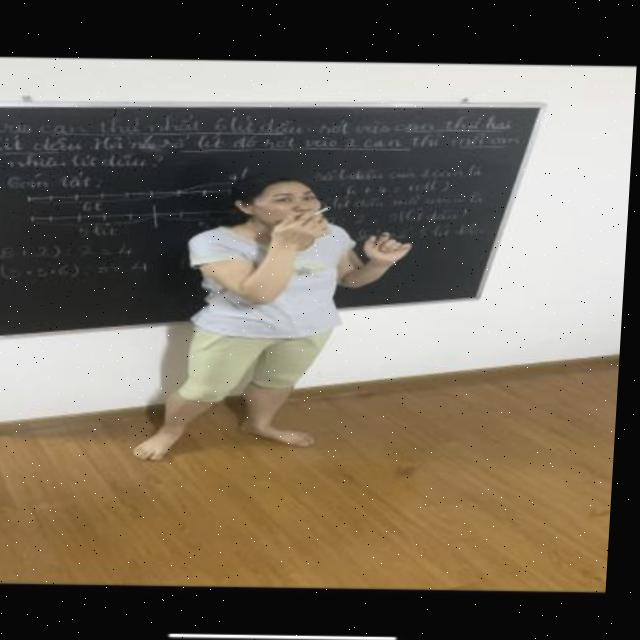cigarette: (316, 204, 337, 214)
